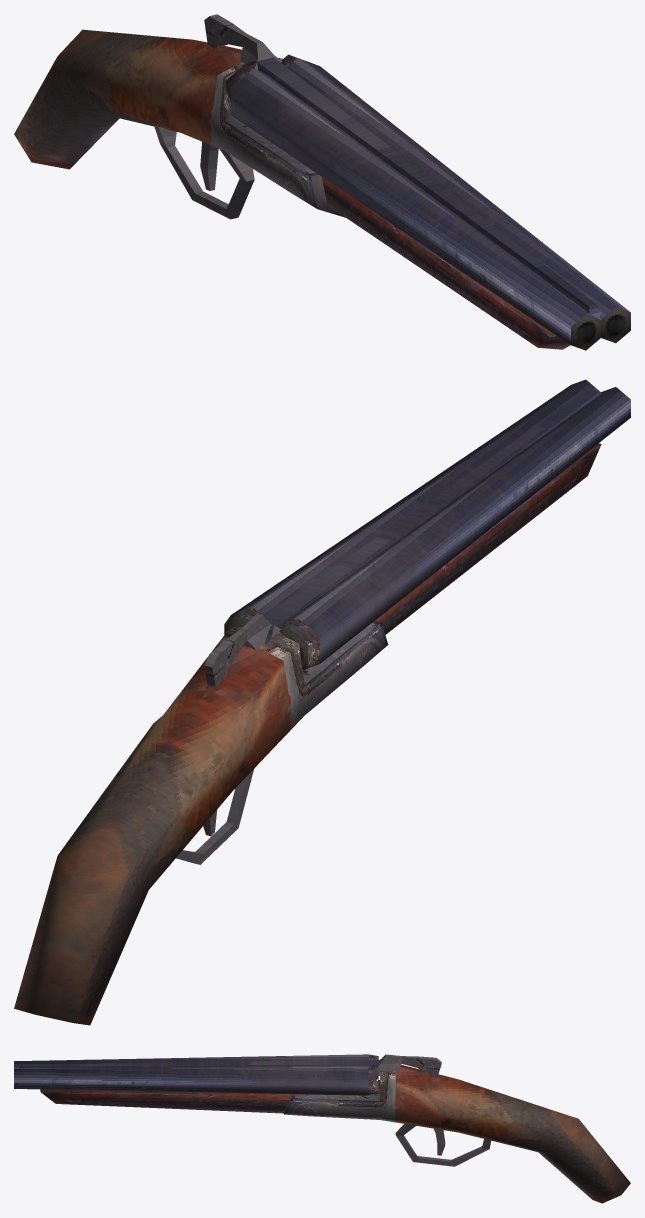
The model's file is Double_Barrel_glb.glb.
3 renders of one model, top to bottom at view 1: azimuth 30°, elevation 25°; view 2: azimuth 150°, elevation 25°; view 3: azimuth 270°, elevation 25°, orthographic. The views are drawn at different scales.
Parts seen in each view (by area): view 1: Barrels, Body, Trigger; view 2: Body, Barrels; view 3: Body, Barrels.
Part boxes in pixels (x1=…): Barrels: x1=224, y1=54, x2=630, y2=350; Body: x1=14, y1=14, x2=345, y2=219; Trigger: x1=200, y1=141, x2=218, y2=190; Body: x1=14, y1=614, x2=388, y2=1025; Barrels: x1=224, y1=379, x2=630, y2=670; Body: x1=284, y1=1054, x2=630, y2=1203; Barrels: x1=14, y1=1054, x2=379, y2=1113.
Bounding box in the file's own units: 0.4466 × 1.27 × 4.91.
Materials: 1 (1 with a texture image).
